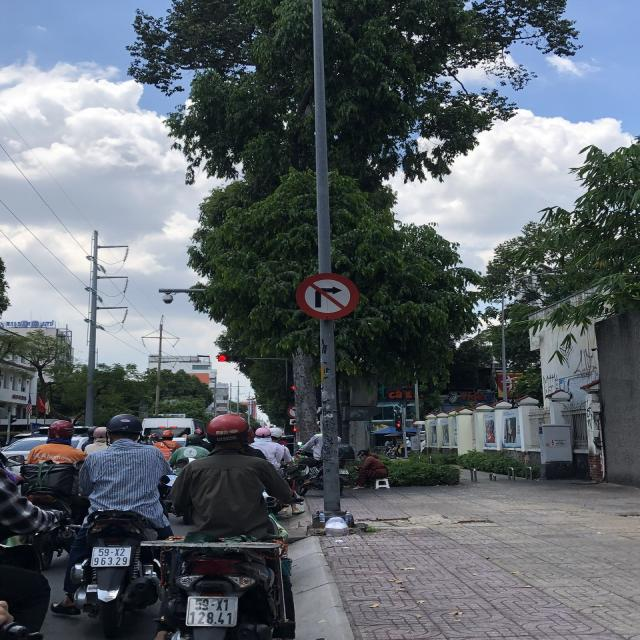Bien bao cam re phai: (291, 268, 363, 322)
